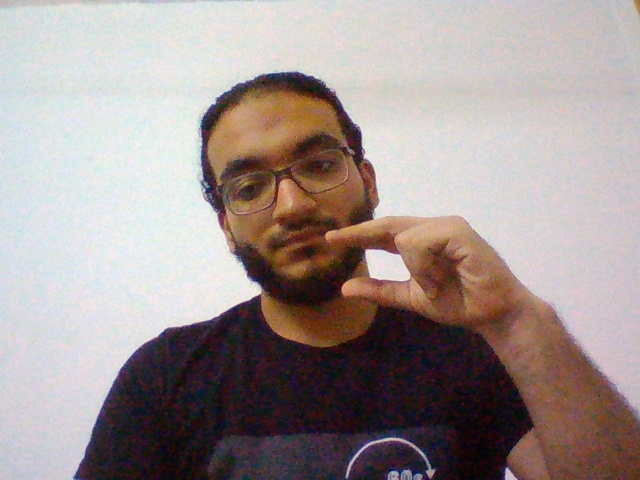No: (325, 209, 535, 347)
